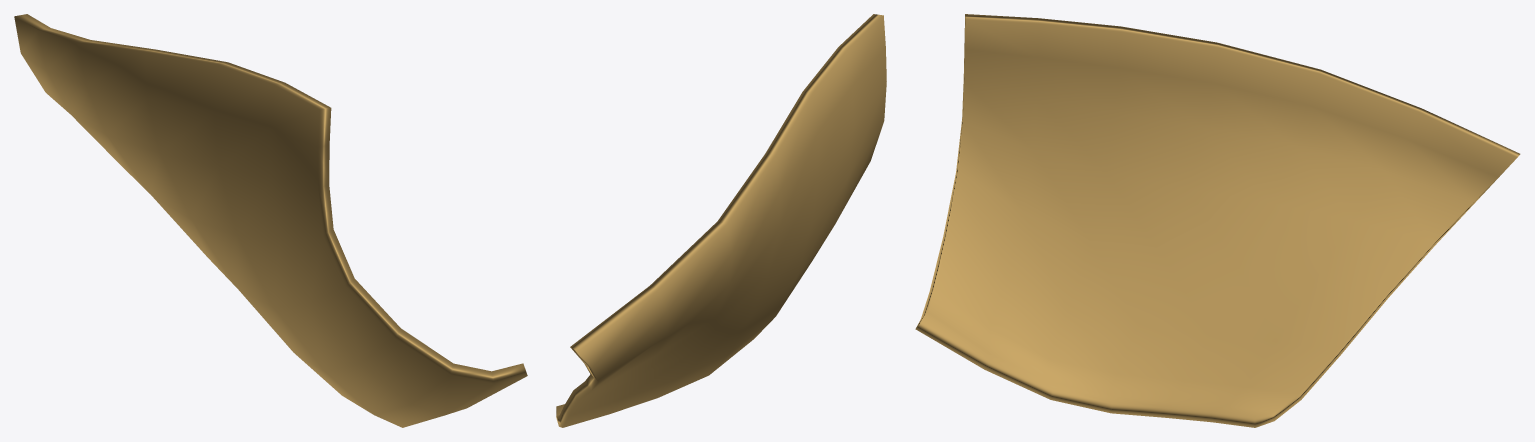
3 renders of one model, left to right at view 1: azimuth 30°, elevation 25°; view 2: azimuth 150°, elevation 25°; view 3: azimuth 270°, elevation 25°, orthographic. The views are drawn at different scales.
Visible parts, largest first — view 1: 右侧胫腓前韧带; view 2: 右侧胫腓前韧带; view 3: 右侧胫腓前韧带.
Boxes of the visible parts, x1=… form: 右侧胫腓前韧带: x1=14, y1=14, x2=527, y2=427; 右侧胫腓前韧带: x1=556, y1=14, x2=886, y2=427; 右侧胫腓前韧带: x1=915, y1=14, x2=1520, y2=427.
Size of the model in its own units: 0.0149 by 0.024 by 0.0392.
